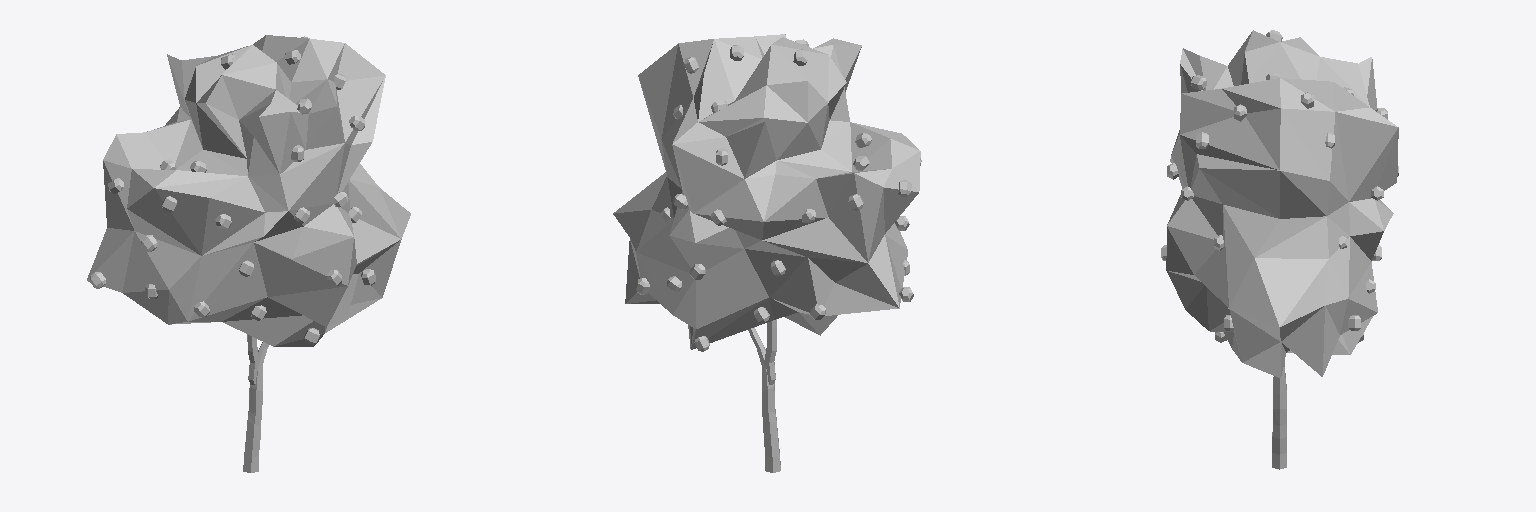
The model's file is appletree.obj.
The picture shows the model from 3 angles: view 1: azimuth 30°, elevation 25°; view 2: azimuth 150°, elevation 25°; view 3: azimuth 270°, elevation 25°; orthographic projection.
Parts seen in each view (by area): view 1: AppleTree_mesh; view 2: AppleTree_mesh; view 3: AppleTree_mesh.
Boxes of the visible parts, <box> form: AppleTree_mesh: <box>87,35,410,472</box>; AppleTree_mesh: <box>613,34,921,472</box>; AppleTree_mesh: <box>1161,30,1398,469</box>.
Size of the model in its own units: 10.83 by 14.15 by 7.18.